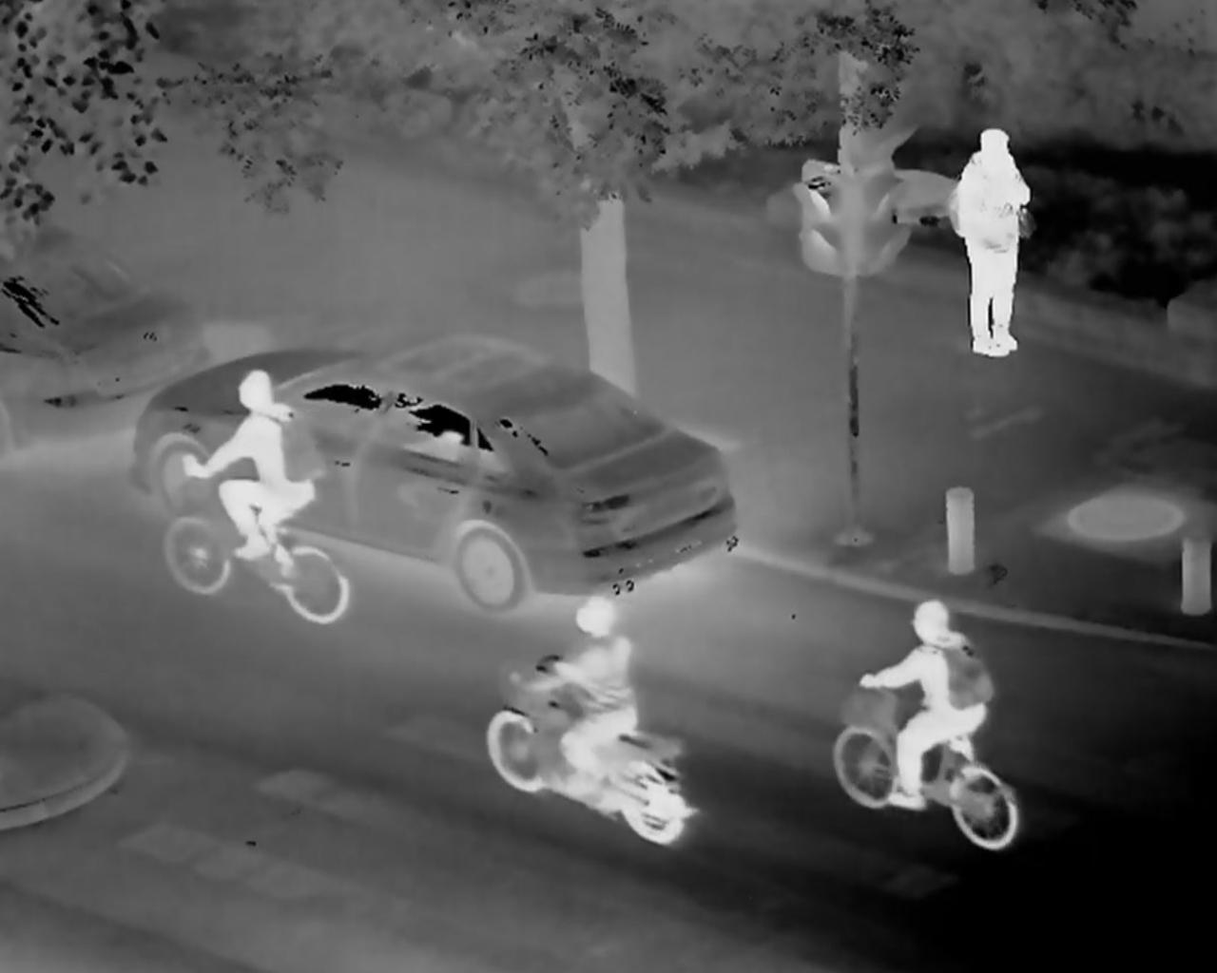person: (854, 586, 993, 823), (184, 366, 328, 594), (512, 595, 643, 783), (947, 119, 1030, 363)
